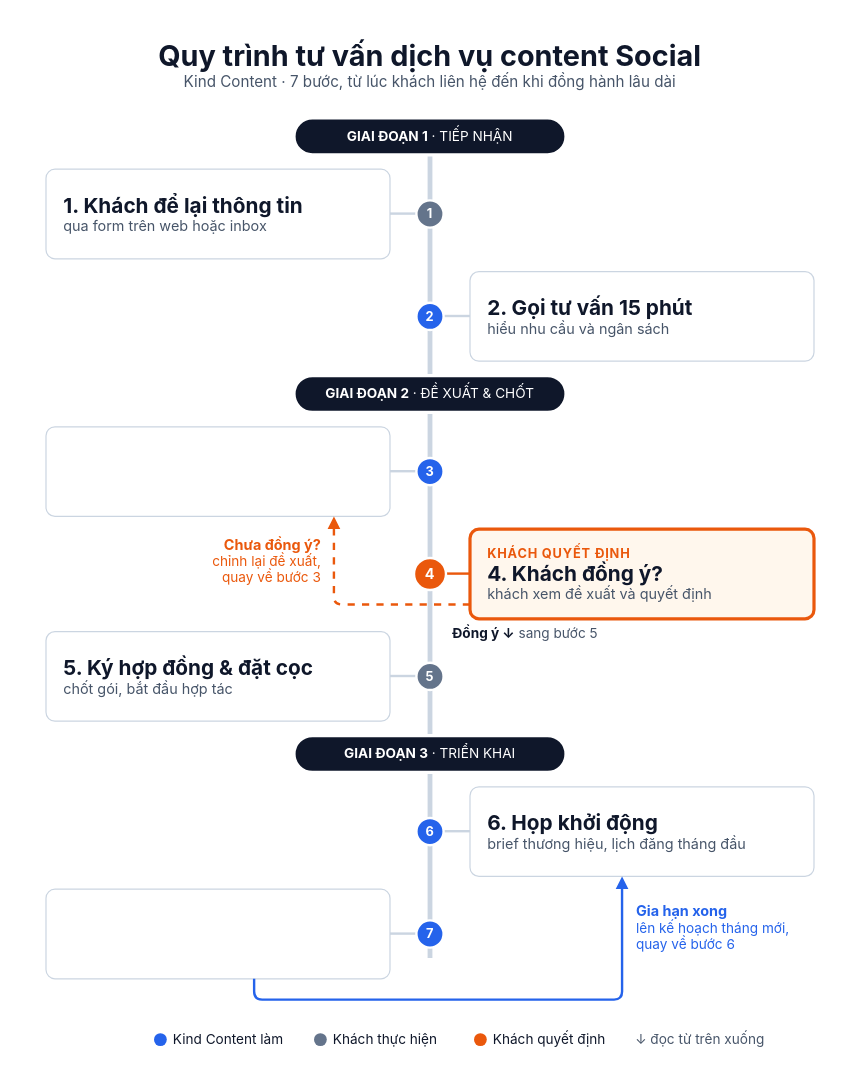
This 859x1075 diagram has some shape labels left out. The centre of each missing label's shape, as x and y in pixels:
"3. Gửi đề xuất & báo giá gói Fanpage hoặc gói TikTok" goes at pixel 217 471.
"7. Báo cáo tháng & gia hạn báo cáo hằng tháng, gia hạn hợp đồng" goes at pixel 217 933.
